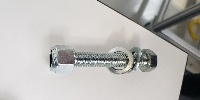FinishedAssembly: (40, 40, 162, 80)
